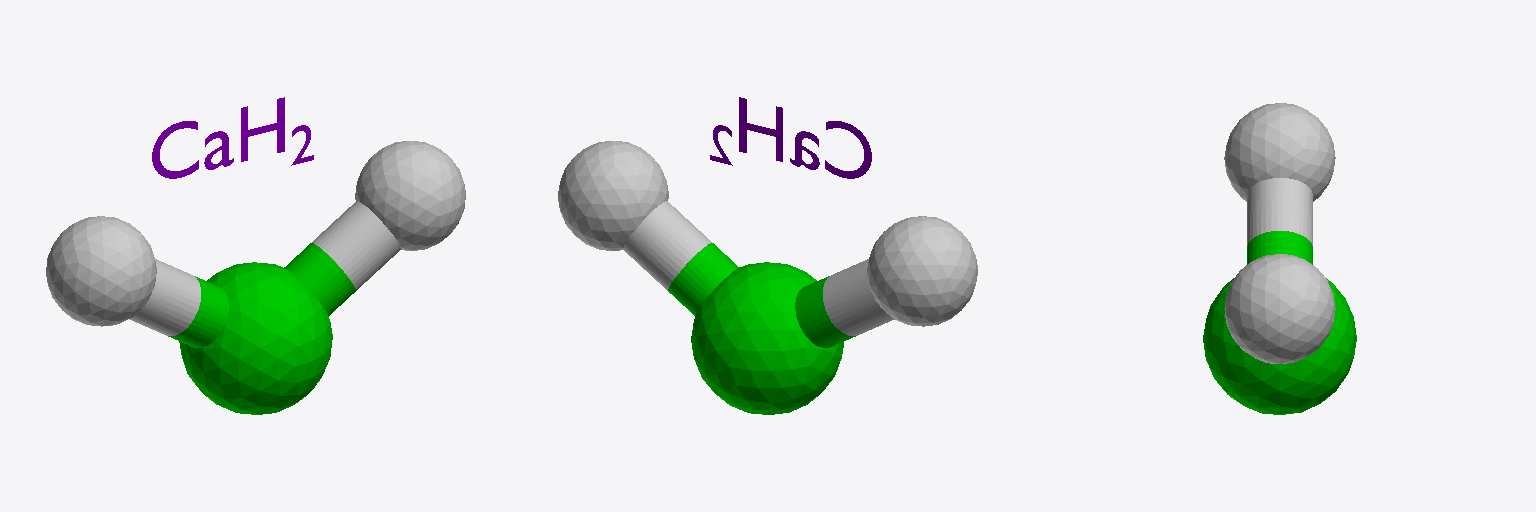
File: cah2.obj
3 views of the same model, side by side, from view 1: azimuth 30°, elevation 25°; view 2: azimuth 150°, elevation 25°; view 3: azimuth 270°, elevation 25° (orthographic).
Parts seen in each view (by area): view 1: Shape_IndexedFaceSet.002_Shape_IndexedFaceSet.7150, Shape_IndexedFaceSet.007_Shape_IndexedFaceSet.7153, Text_Text.224; view 2: Shape_IndexedFaceSet.002_Shape_IndexedFaceSet.7150, Shape_IndexedFaceSet.007_Shape_IndexedFaceSet.7153, Text_Text.224; view 3: Shape_IndexedFaceSet.002_Shape_IndexedFaceSet.7150, Shape_IndexedFaceSet.007_Shape_IndexedFaceSet.7153.
Boxes of the visible parts, x1=… form: Shape_IndexedFaceSet.002_Shape_IndexedFaceSet.7150: x1=46, y1=141, x2=465, y2=335; Shape_IndexedFaceSet.007_Shape_IndexedFaceSet.7153: x1=168, y1=243, x2=355, y2=414; Text_Text.224: x1=152, y1=97, x2=284, y2=178; Shape_IndexedFaceSet.002_Shape_IndexedFaceSet.7150: x1=558, y1=141, x2=977, y2=335; Shape_IndexedFaceSet.007_Shape_IndexedFaceSet.7153: x1=668, y1=243, x2=855, y2=414; Text_Text.224: x1=739, y1=97, x2=871, y2=178; Shape_IndexedFaceSet.002_Shape_IndexedFaceSet.7150: x1=1224, y1=103, x2=1335, y2=363; Shape_IndexedFaceSet.007_Shape_IndexedFaceSet.7153: x1=1203, y1=231, x2=1356, y2=414.
Bounding box in the file's own units: 21.28 × 15.29 × 7.